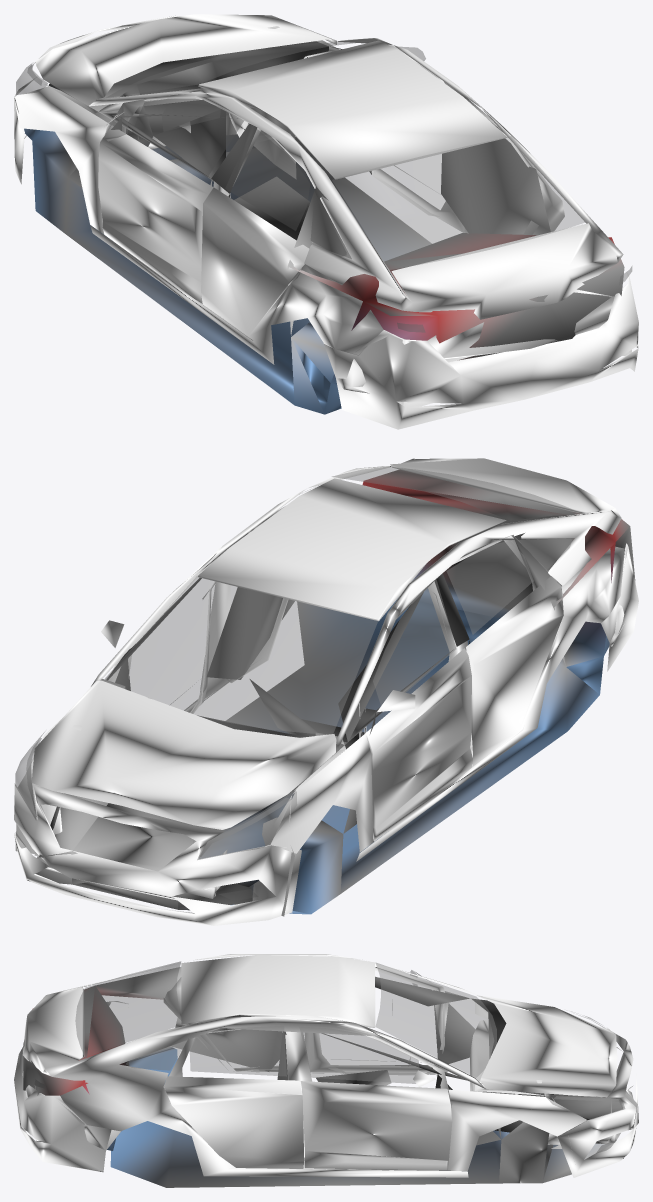
File: sonata-mid.glb
3 renders of one model, top to bottom at view 1: azimuth 30°, elevation 25°; view 2: azimuth 150°, elevation 25°; view 3: azimuth 270°, elevation 25°, orthographic. The views are drawn at different scales.
Parts seen in each view (by area): view 1: body, trim, glass; view 2: body, trim, glass; view 3: body, trim, glass.
Part boxes in pixels (box(x1,y1,x2,y2)): body: box(14, 14, 638, 429); trim: box(24, 26, 624, 414); glass: box(16, 40, 632, 332); body: box(14, 458, 638, 925); trim: box(27, 469, 635, 914); glass: box(15, 466, 581, 900); body: box(14, 954, 638, 1177); trim: box(23, 967, 637, 1187); glass: box(34, 961, 625, 1153).
Size of the model in its own units: 2.09 by 1.37 by 4.82.
